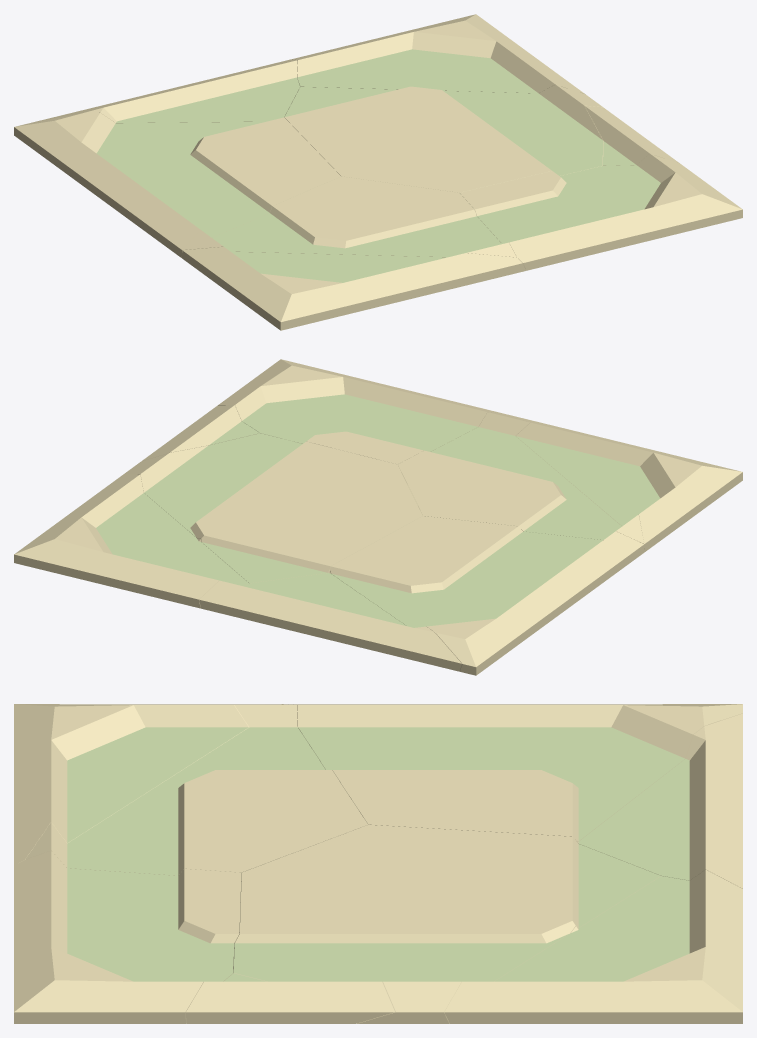
File: cellSA.gltf
The picture shows the model from 3 angles, top to bottom: view 1: azimuth 30°, elevation 25°; view 2: azimuth 150°, elevation 25°; view 3: azimuth 270°, elevation 25°; orthographic projection. The views are drawn at different scales.
Visible parts, largest first — view 1: Plane_cell.003, Plane_cell.002, Plane_cell.007, Plane_cell.001, Plane_cell.006, Plane_cell.008, Plane_cell.004, Plane_cell.005; view 2: Plane_cell.003, Plane_cell.002, Plane_cell.007, Plane_cell.001, Plane_cell.008, Plane_cell.006, Plane_cell.004, Plane_cell.005; view 3: Plane_cell.003, Plane_cell.002, Plane_cell.007, Plane_cell.008, Plane_cell.001, Plane_cell.006, Plane_cell.004, Plane_cell.005.
Part boxes in pixels (box(x1,y1,x2,y2)): Plane_cell.003: box(284, 84, 603, 192); Plane_cell.002: box(14, 113, 340, 257); Plane_cell.007: box(460, 153, 742, 270); Plane_cell.001: box(183, 176, 516, 257); Plane_cell.006: box(182, 246, 526, 330); Plane_cell.008: box(292, 14, 584, 93); Plane_cell.004: box(31, 59, 299, 123); Plane_cell.005: box(585, 106, 679, 165); Plane_cell.003: box(124, 433, 422, 583); Plane_cell.002: box(330, 516, 644, 675); Plane_cell.007: box(218, 359, 500, 464); Plane_cell.001: box(398, 412, 644, 543); Plane_cell.008: box(14, 474, 248, 608); Plane_cell.006: box(499, 413, 742, 552); Plane_cell.004: box(199, 570, 461, 671); Plane_cell.005: box(142, 405, 259, 460); Plane_cell.003: box(233, 824, 660, 1023); Plane_cell.002: box(288, 704, 742, 841); Plane_cell.007: box(14, 850, 241, 1023); Plane_cell.008: box(444, 869, 742, 1023); Plane_cell.001: box(25, 704, 367, 875); Plane_cell.006: box(14, 704, 264, 865); Plane_cell.004: box(576, 713, 742, 888); Plane_cell.005: box(186, 973, 394, 1023).
Size of what is drawn, in the model's own units: 5 by 0.2 by 5.
